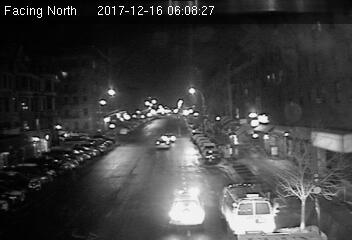car: (201, 149, 222, 164), (154, 137, 172, 150)
police: (220, 181, 276, 235), (168, 187, 205, 227)
